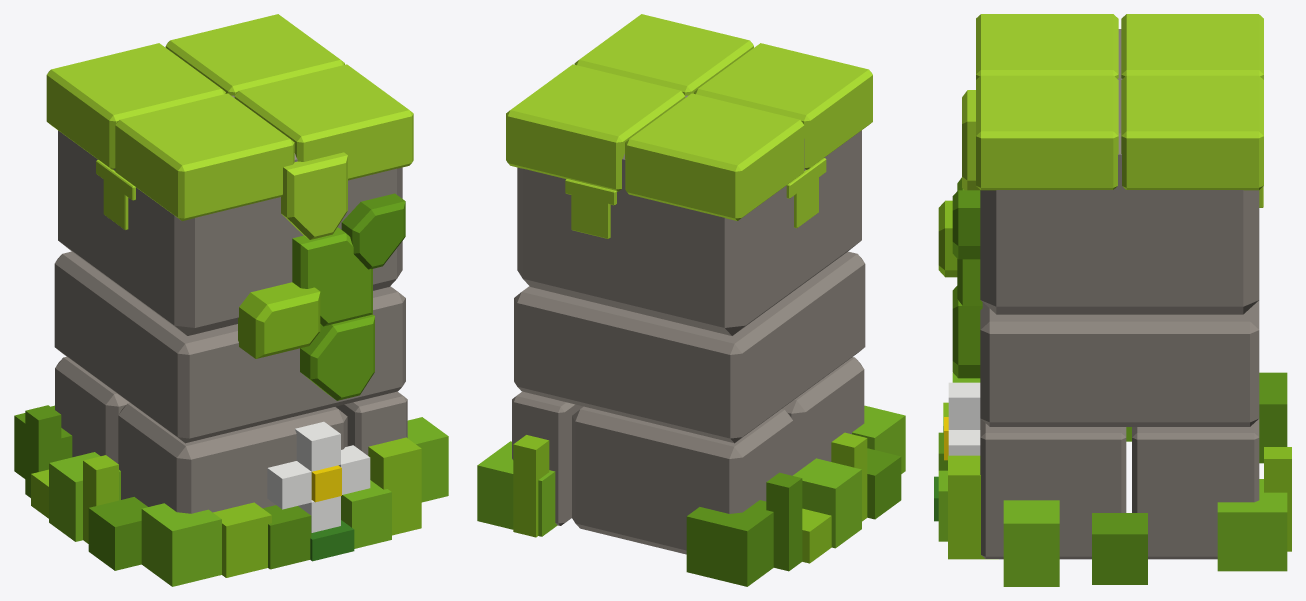
Rendered from MossyGlade_CornerPillar.glb.
3 renders of one model, left to right at view 1: azimuth 30°, elevation 25°; view 2: azimuth 150°, elevation 25°; view 3: azimuth 270°, elevation 25°, orthographic. The views are drawn at different scales.
Parts seen in each view (by area): view 1: Stone_Mid, Stone_Top, Moss_Cap_1, Stone_Base_1, Moss_Cap_2, Moss_Cap_4, Moss_Cap_3, Foliage_01, Ivy_3, Ivy_4, Stone_Base_4, Ivy_5 (+21 smaller); view 2: Stone_Mid, Stone_Top, Stone_Base_4, Moss_Cap_4, Moss_Cap_3, Moss_Cap_1, Moss_Cap_2, Foliage_13, Stone_Base_1, Stone_Base_3, Foliage_08, Foliage_14 (+8 smaller); view 3: Stone_Top, Stone_Mid, Moss_Cap_2, Moss_Cap_3, Stone_Base_2, Stone_Base_3, Moss_Cap_4, Moss_Cap_1, Foliage_14, Foliage_12, Foliage_11, Foliage_05 (+10 smaller).
Boxes of the visible parts, bbox=[...] form: Stone_Mid: bbox=[54, 251, 405, 443]; Stone_Top: bbox=[58, 95, 402, 335]; Moss_Cap_1: bbox=[115, 93, 294, 221]; Stone_Base_1: bbox=[118, 403, 347, 513]; Moss_Cap_2: bbox=[234, 64, 413, 180]; Moss_Cap_4: bbox=[46, 43, 225, 169]; Moss_Cap_3: bbox=[165, 14, 344, 95]; Foliage_01: bbox=[141, 503, 221, 586]; Ivy_3: bbox=[292, 227, 372, 326]; Ivy_4: bbox=[238, 282, 320, 358]; Stone_Base_4: bbox=[55, 356, 129, 463]; Ivy_5: bbox=[300, 314, 374, 400]; Stone_Mid: bbox=[514, 251, 865, 443]; Stone_Top: bbox=[517, 95, 861, 335]; Stone_Base_4: bbox=[572, 406, 793, 554]; Moss_Cap_4: bbox=[625, 93, 804, 220]; Moss_Cap_3: bbox=[506, 64, 685, 191]; Moss_Cap_1: bbox=[694, 43, 872, 169]; Moss_Cap_2: bbox=[574, 14, 753, 95]; Foliage_13: bbox=[686, 500, 773, 586]; Stone_Base_1: bbox=[782, 357, 864, 474]; Stone_Base_3: bbox=[512, 391, 583, 525]; Foliage_08: bbox=[793, 458, 861, 548]; Foliage_14: bbox=[477, 441, 557, 536]; Stone_Top: bbox=[980, 29, 1259, 314]; Stone_Mid: bbox=[980, 300, 1259, 426]; Moss_Cap_2: bbox=[976, 75, 1118, 190]; Moss_Cap_3: bbox=[1121, 75, 1263, 190]; Stone_Base_2: bbox=[980, 418, 1126, 559]; Stone_Base_3: bbox=[1132, 419, 1259, 559]; Moss_Cap_4: bbox=[1121, 14, 1263, 79]; Moss_Cap_1: bbox=[976, 14, 1118, 79]; Foliage_14: bbox=[1217, 479, 1287, 571]; Foliage_12: bbox=[1003, 500, 1059, 586]; Foliage_11: bbox=[1092, 513, 1147, 584]; Foliage_05: bbox=[948, 455, 998, 559].
Size of the model in its own units: 0.86 by 1.02 by 0.77.
